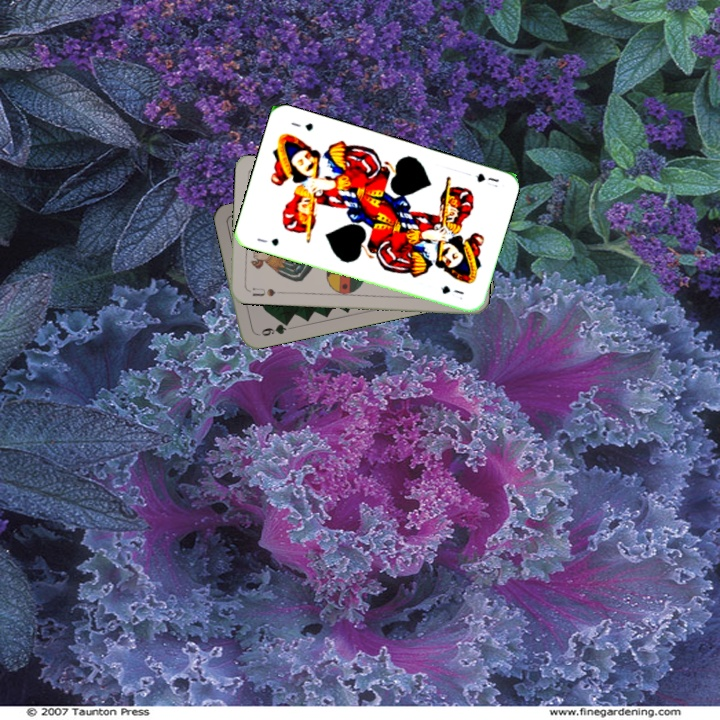G9: (253, 318, 292, 339)
GU: (472, 169, 501, 185), (253, 234, 281, 249)
SU: (244, 284, 284, 299)
